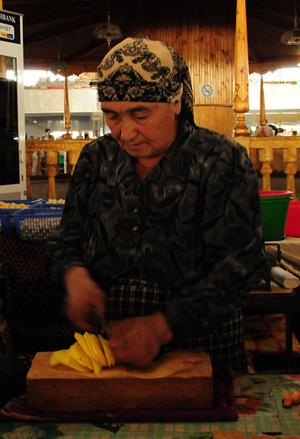person: (58, 33, 264, 375)
